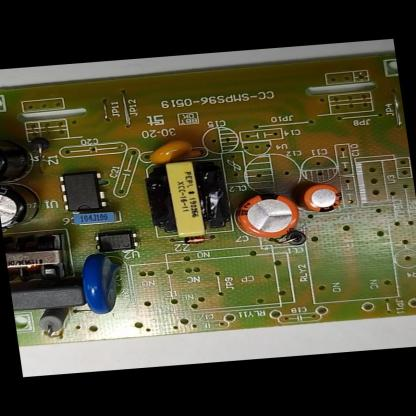Cap1: (226, 185, 305, 246)
Cap2: (287, 176, 349, 220)
Cap3: (0, 176, 48, 235)
Cap4: (0, 135, 43, 187)
MOSFET: (52, 166, 109, 216)
Mov: (74, 248, 131, 320)
Resistor: (30, 306, 72, 343)
Transformer: (142, 155, 236, 241), (3, 230, 72, 286)
